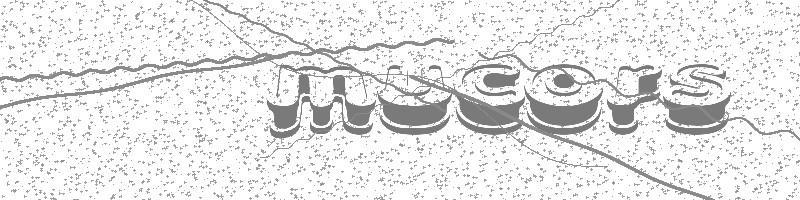c: (455, 64, 525, 135)
m: (268, 65, 376, 137)
o: (525, 63, 603, 134)
r: (607, 66, 662, 136)
s: (663, 64, 731, 135)
u: (378, 66, 452, 135)
